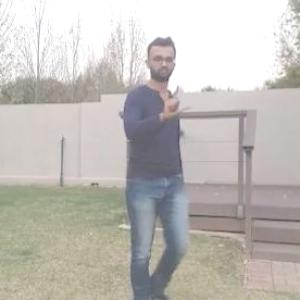land_hand: (158, 79, 193, 121)
